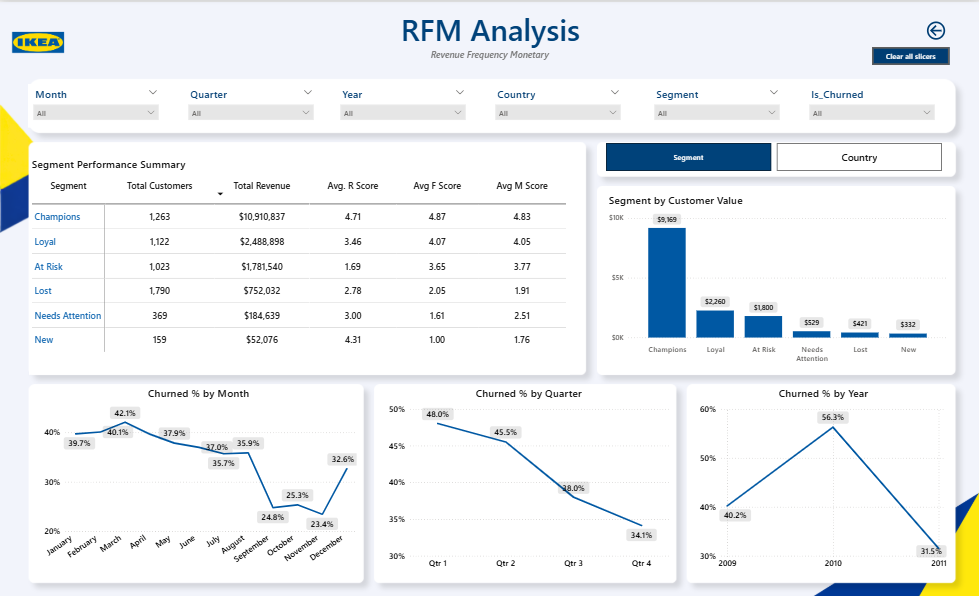

This screenshot's page, from the dashboard's own definition file:
{"tool":"powerbi","page":{"name":"RFM Analysis","canvas":[1750,1100],"ordinal":1},"visuals":[{"type":"slicer","fields":{"Values":["Sheet1.InvoiceDate.Variation.Date Hierarchy.Month"]},"box":[50.2,146.5,242.9,78.3],"z":0},{"type":"columnChart","title":"Segment by Customer Value","fields":{"Category":["Sheet1.Segment"],"Y":["Sheet1.Avg Customer Value"]},"box":[1082,341.2,614.2,311.1],"z":0,"group":"g2"},{"type":"lineChart","fields":{"Category":["Sheet1.InvoiceMonth.Variation.Date Hierarchy.Month"],"Y":["Sheet1.Churned %"]},"box":[68.2,686.5,574.1,337.2],"z":0,"group":"g1"},{"type":"slicer","fields":{"Values":["Sheet1.InvoiceDate.Variation.Date Hierarchy.Quarter"]},"box":[327.2,146.5,242.9,78.3],"z":1000},{"type":"pivotTable","title":"Segment Performance Summary","fields":{"Values":["Sheet1.Total Customers","Sheet1.Total Revenue","Avg(Sheet1.R_Score)","Avg(Sheet1.F_Score)","Avg(Sheet1.M_Score)"],"Rows":["Sheet1.Segment"]},"box":[51.1,276.6,966,389.4],"z":1000,"group":"g2"},{"type":"lineChart","fields":{"Category":["Sheet1.InvoiceMonth.Variation.Date Hierarchy.Year"],"Y":["Sheet1.Churned %"]},"box":[1244.5,686.5,451.6,337.2],"z":1000,"group":"g1"},{"type":"slicer","fields":{"Values":["Sheet1.InvoiceDate.Variation.Date Hierarchy.Year"]},"box":[598.2,146.5,242.9,78.3],"z":2000},{"type":"lineChart","fields":{"Category":["Sheet1.InvoiceMonth.Variation.Date Hierarchy.Quarter"],"Y":["Sheet1.Churned %"]},"box":[690.5,686.5,509.9,337.2],"z":2000,"group":"g1"},{"type":"slicer","fields":{"Values":["Sheet1.Country"]},"box":[875.2,146.5,242.9,78.3],"z":3000},{"type":"slicer","fields":{"Values":["Sheet1.Segment"]},"box":[1158.2,146.5,242.9,78.3],"z":4000},{"type":"slicer","fields":{"Values":["Sheet1.Is_Churned"]},"box":[1435.2,146.5,242.9,78.3],"z":5000},{"type":"group","id":"g1","title":"Revenue","box":[68.2,686.5,1627.9,337.2],"z":7000},{"type":"bookmarkNavigator","box":[1081.9,250.9,600.2,50.2],"z":8000},{"type":"image","box":[0,32.1,136.5,80.3],"z":9000},{"type":"textbox","box":[635.1,8,479.7,94.3],"z":10000},{"type":"actionButton","box":[1650,28.1,46.2,44.2],"z":11000},{"type":"actionButton","box":[1557.7,80.3,138.5,32.1],"z":12000},{"type":"textbox","box":[588,78.3,574.1,46.2],"z":13000},{"type":"group","id":"g2","title":"Segment","box":[51.1,276.6,1645.1,389.4],"z":14000}]}

Visuals, with their boxes on the page's 1750x1100 design canvas (x1, y1, x2, y2). These are canvas units, not pixel positions in the 979x596 screenshot, which may show the page scaled, cropped or inside an application window:
slicer - Sheet1.InvoiceDate.Variation.Date Hierarchy.Month: crop(50, 146, 293, 225)
"Segment by Customer Value" columnChart: crop(1082, 341, 1696, 652)
lineChart - Sheet1.InvoiceMonth.Variation.Date Hierarchy.Month x Sheet1.Churned %: crop(68, 686, 642, 1024)
slicer - Sheet1.InvoiceDate.Variation.Date Hierarchy.Quarter: crop(327, 146, 570, 225)
"Segment Performance Summary" pivotTable: crop(51, 277, 1017, 666)
lineChart - Sheet1.InvoiceMonth.Variation.Date Hierarchy.Year x Sheet1.Churned %: crop(1244, 686, 1696, 1024)
slicer - Sheet1.InvoiceDate.Variation.Date Hierarchy.Year: crop(598, 146, 841, 225)
lineChart - Sheet1.InvoiceMonth.Variation.Date Hierarchy.Quarter x Sheet1.Churned %: crop(690, 686, 1200, 1024)
slicer - Sheet1.Country: crop(875, 146, 1118, 225)
slicer - Sheet1.Segment: crop(1158, 146, 1401, 225)
slicer - Sheet1.Is_Churned: crop(1435, 146, 1678, 225)
"Revenue" group: crop(68, 686, 1696, 1024)
bookmarkNavigator: crop(1082, 251, 1682, 301)
image: crop(0, 32, 136, 112)
textbox: crop(635, 8, 1115, 102)
actionButton: crop(1650, 28, 1696, 72)
actionButton: crop(1558, 80, 1696, 112)
textbox: crop(588, 78, 1162, 124)
"Segment" group: crop(51, 277, 1696, 666)
